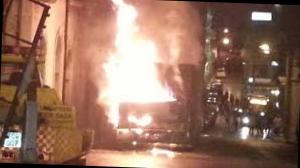Fire: (83, 0, 180, 105)
Smoke: (139, 0, 209, 62)
